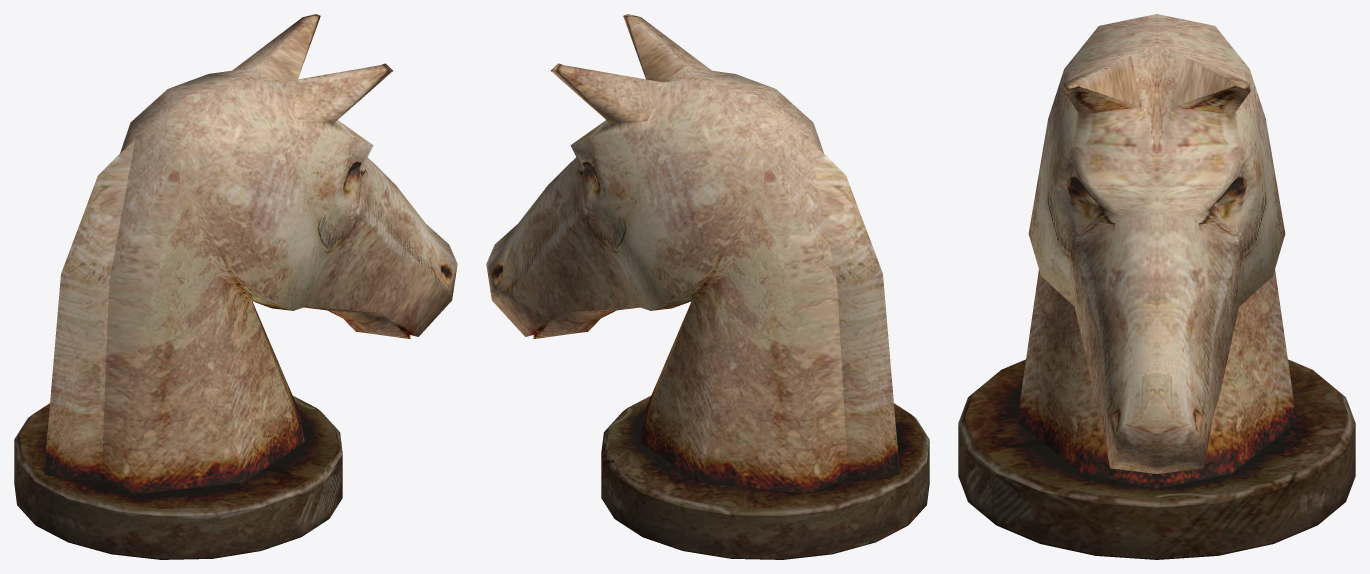
The model's file is horse.fbx.
The picture shows the model from 3 angles, left to right: view 1: azimuth 30°, elevation 25°; view 2: azimuth 150°, elevation 25°; view 3: azimuth 270°, elevation 25°; orthographic projection. The views are drawn at different scales.
Parts seen in each view (by area): view 1: cheval1; view 2: cheval1; view 3: cheval1.
Boxes of the visible parts, bbox=[...] form: cheval1: bbox=[14, 14, 457, 559]; cheval1: bbox=[486, 14, 929, 559]; cheval1: bbox=[958, 14, 1355, 559].
Bounding box in the file's own units: 95.92 × 90.47 × 66.34.
